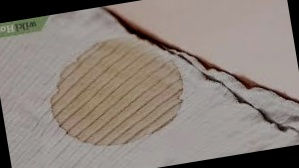coffee: (43, 35, 187, 154)
